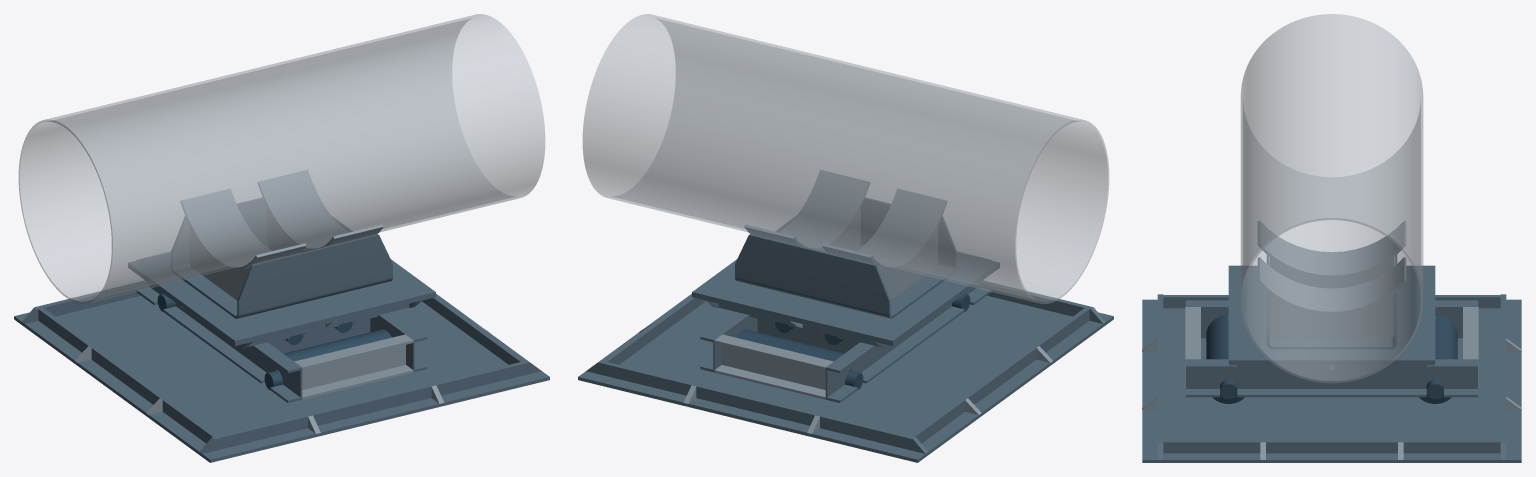
Rendered from TS-628.00.000-14-opora-dn530-hod200.glb.
3 views of the same model, side by side, from view 1: azimuth 30°, elevation 25°; view 2: azimuth 150°, elevation 25°; view 3: azimuth 270°, elevation 25° (orthographic). The views are drawn at different scales.
Visible parts, largest first — view 1: truba, plita_niz_osnovanie_0, korpus_skoba_60, plita_verh_osnovanie_51, plita_niz_polosa2_7, korpus_podushka_65, karetka_rebro_shveller_15, korpus_podushka_66, karetka_shveller_prodolnyj_13, plita_niz_polosa3_8, plita_niz_polosa2_1, korpus_rebro3_61 (+5 smaller); view 2: truba, plita_niz_osnovanie_0, korpus_skoba_60, plita_verh_osnovanie_51, plita_niz_polosa2_1, korpus_podushka_65, karetka_rebro_shveller_18, korpus_podushka_66, karetka_shveller_prodolnyj_13, plita_niz_polosa3_8, plita_niz_polosa2_7, korpus_rebro3_61 (+5 smaller); view 3: truba, plita_niz_osnovanie_0, plita_verh_osnovanie_51, karetka_shveller_prodolnyj_16, plita_niz_polosa3_2, korpus_podushka_66, korpus_rebro3_64, korpus_podushka_65, korpus_skoba_60, karetka_shveller_prodolnyj_13, korpus_rebro3_62, plita_niz_polosa2_1 (+5 smaller).
Part boxes in pixels (<box>): truba: <box>18,14,545,303</box>; plita_niz_osnovanie_0: <box>14,294,549,462</box>; korpus_skoba_60: <box>171,197,392,318</box>; plita_verh_osnovanie_51: <box>128,216,435,345</box>; plita_niz_polosa2_7: <box>200,360,541,453</box>; korpus_podushka_65: <box>180,189,306,270</box>; karetka_rebro_shveller_15: <box>294,334,413,399</box>; korpus_podushka_66: <box>258,170,383,250</box>; karetka_shveller_prodolnyj_13: <box>136,257,302,402</box>; plita_niz_polosa3_8: <box>38,308,217,443</box>; plita_niz_polosa2_1: <box>22,280,148,323</box>; korpus_rebro3_61: <box>190,227,249,300</box>; truba: <box>582,14,1109,303</box>; plita_niz_osnovanie_0: <box>578,294,1113,462</box>; korpus_skoba_60: <box>735,197,956,318</box>; plita_verh_osnovanie_51: <box>692,216,999,345</box>; plita_niz_polosa2_1: <box>586,360,927,453</box>; korpus_podushka_65: <box>821,189,947,270</box>; karetka_rebro_shveller_18: <box>714,334,833,399</box>; korpus_podushka_66: <box>744,170,869,250</box>; karetka_shveller_prodolnyj_13: <box>825,257,991,402</box>; plita_niz_polosa3_8: <box>910,308,1089,443</box>; plita_niz_polosa2_7: <box>979,280,1105,323</box>; korpus_rebro3_61: <box>878,227,937,300</box>; truba: <box>1240,14,1423,383</box>; plita_niz_osnovanie_0: <box>1142,299,1521,462</box>; plita_verh_osnovanie_51: <box>1228,265,1435,365</box>; karetka_shveller_prodolnyj_16: <box>1185,359,1478,397</box>; plita_niz_polosa3_2: <box>1163,440,1500,453</box>; korpus_podushka_66: <box>1257,257,1406,314</box>; korpus_rebro3_64: <box>1269,293,1394,338</box>; korpus_podushka_65: <box>1258,221,1405,277</box>; korpus_skoba_60: <box>1266,255,1397,349</box>; karetka_shveller_prodolnyj_13: <box>1185,300,1478,338</box>; korpus_rebro3_62: <box>1269,257,1394,288</box>; plita_niz_polosa2_1: <box>1500,294,1506,459</box>.
Size of the model in its own units: 1400 by 855 by 1102.
